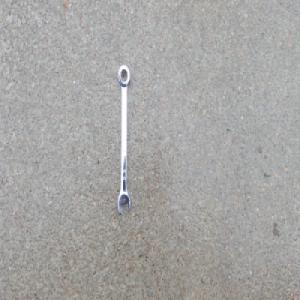Wrench: (116, 64, 131, 214)
